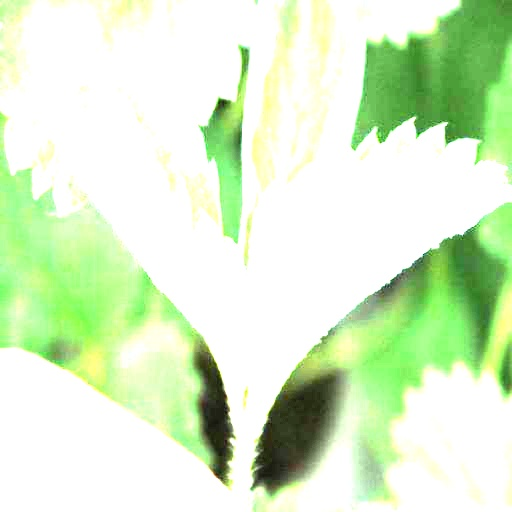Powdery Mildew Leaf: (11, 49, 258, 406), (244, 116, 511, 431), (237, 0, 370, 262)
